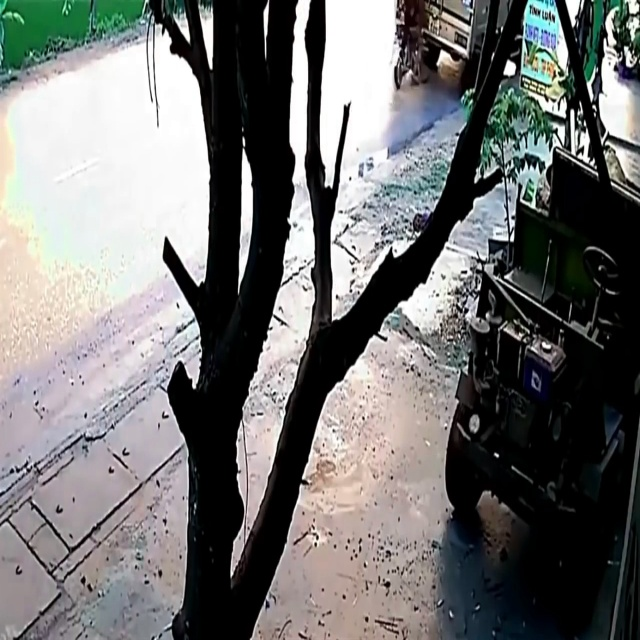acc: (376, 2, 466, 97)
